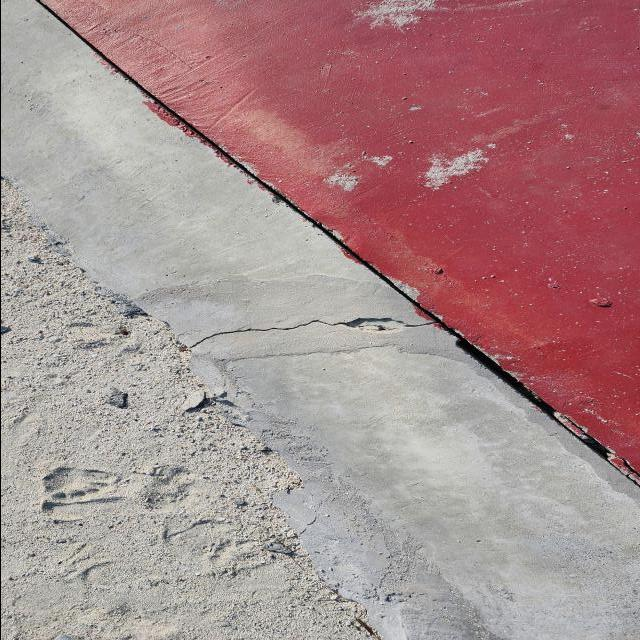SurfaceCrack: (1, 0, 640, 500)
